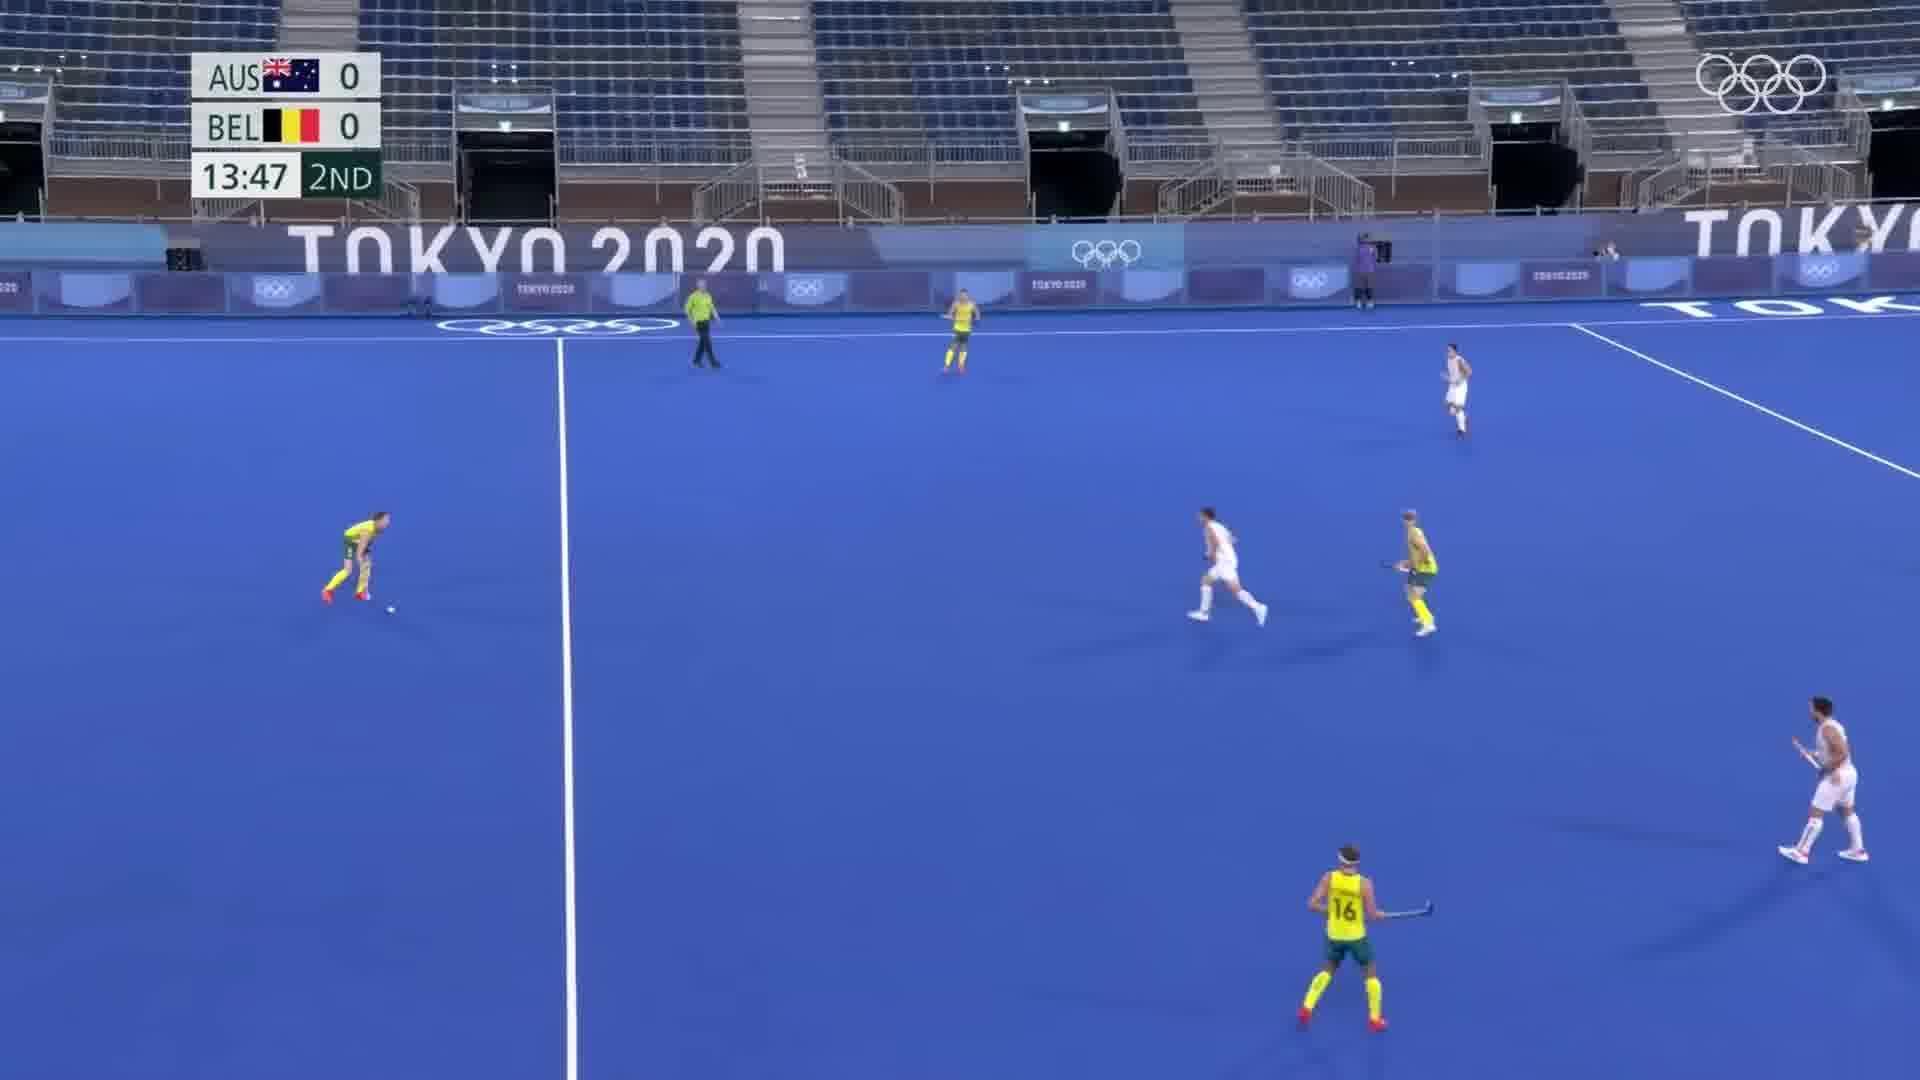ball: (378, 603, 401, 620)
